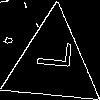L: (27, 38, 72, 70)
